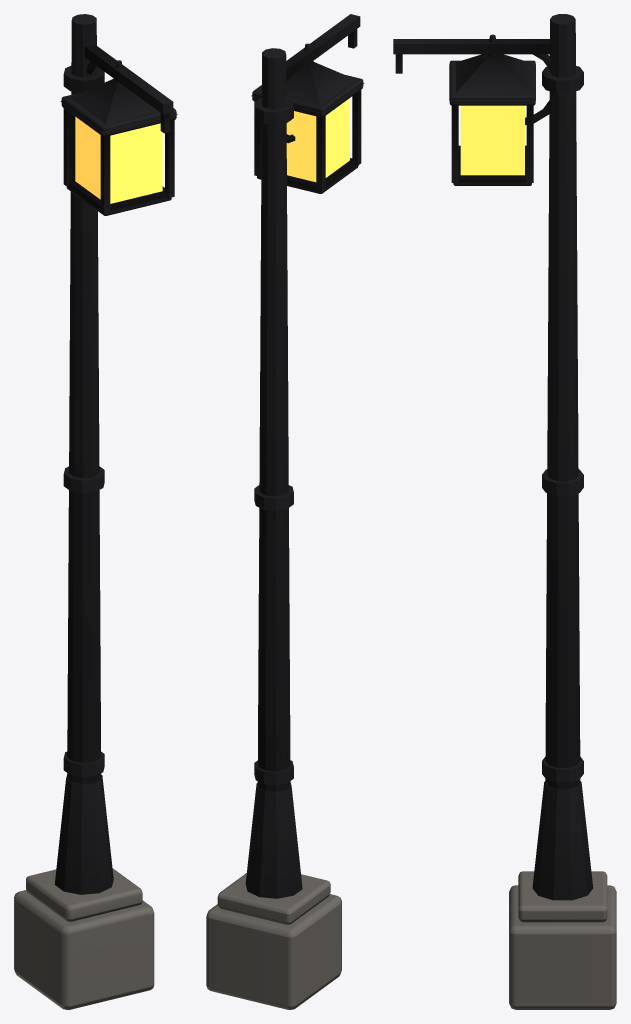
File: street_lamp.glb
The picture shows the model from 3 angles, left to right: view 1: azimuth 30°, elevation 25°; view 2: azimuth 150°, elevation 25°; view 3: azimuth 270°, elevation 25°; orthographic projection. The views are drawn at different scales.
Parts seen in each view (by area): view 1: Post, Plinth, Foot, HeadGlass, PlinthCap, HeadCap, Arm, HeadRim, HeadBase, HeadRail0, HeadRail1, Collar1 (+3 smaller); view 2: Post, Plinth, Foot, HeadGlass, PlinthCap, HeadCap, Arm, HeadRim, HeadBase, HeadRail1, Collar2, HeadRail0 (+3 smaller); view 3: Post, Plinth, Foot, HeadGlass, PlinthCap, HeadCap, Arm, HeadRim, HeadBase, Collar2, Collar1, Collar0 (+2 smaller).
Boxes of the visible parts, x1=… form: Post: x1=67, y1=14, x2=101, y2=784; Plinth: x1=14, y1=890, x2=154, y2=1009; Foot: x1=54, y1=774, x2=113, y2=894; HeadGlass: x1=75, y1=117, x2=162, y2=203; PlinthCap: x1=26, y1=868, x2=142, y2=921; HeadCap: x1=60, y1=79, x2=177, y2=132; Arm: x1=84, y1=44, x2=173, y2=114; HeadRim: x1=61, y1=92, x2=176, y2=136; HeadBase: x1=66, y1=179, x2=171, y2=215; HeadRail0: x1=100, y1=135, x2=110, y2=213; HeadRail1: x1=63, y1=108, x2=72, y2=186; Collar1: x1=63, y1=466, x2=104, y2=493; Post: x1=257, y1=48, x2=290, y2=791; Plinth: x1=206, y1=894, x2=341, y2=1009; Foot: x1=245, y1=783, x2=302, y2=898; HeadGlass: x1=286, y1=98, x2=349, y2=182; PlinthCap: x1=217, y1=873, x2=330, y2=924; HeadCap: x1=251, y1=61, x2=364, y2=113; Arm: x1=286, y1=14, x2=360, y2=80; HeadRim: x1=252, y1=75, x2=363, y2=117; HeadBase: x1=257, y1=158, x2=358, y2=193; HeadRail1: x1=316, y1=116, x2=325, y2=191; Collar2: x1=254, y1=97, x2=293, y2=124; HeadRail0: x1=352, y1=90, x2=361, y2=165; Post: x1=545, y1=14, x2=580, y2=789; Plinth: x1=509, y1=885, x2=616, y2=1009; Foot: x1=532, y1=781, x2=593, y2=900; HeadGlass: x1=460, y1=105, x2=524, y2=175; PlinthCap: x1=518, y1=871, x2=607, y2=922; HeadCap: x1=449, y1=54, x2=535, y2=100; Arm: x1=393, y1=39, x2=551, y2=54; HeadRim: x1=449, y1=60, x2=535, y2=105; HeadBase: x1=453, y1=145, x2=531, y2=185; Collar2: x1=542, y1=66, x2=583, y2=93; Collar1: x1=542, y1=469, x2=583, y2=495; Collar0: x1=542, y1=756, x2=583, y2=782.
Bounding box in the file's own units: 0.46 × 4.58 × 0.955.
